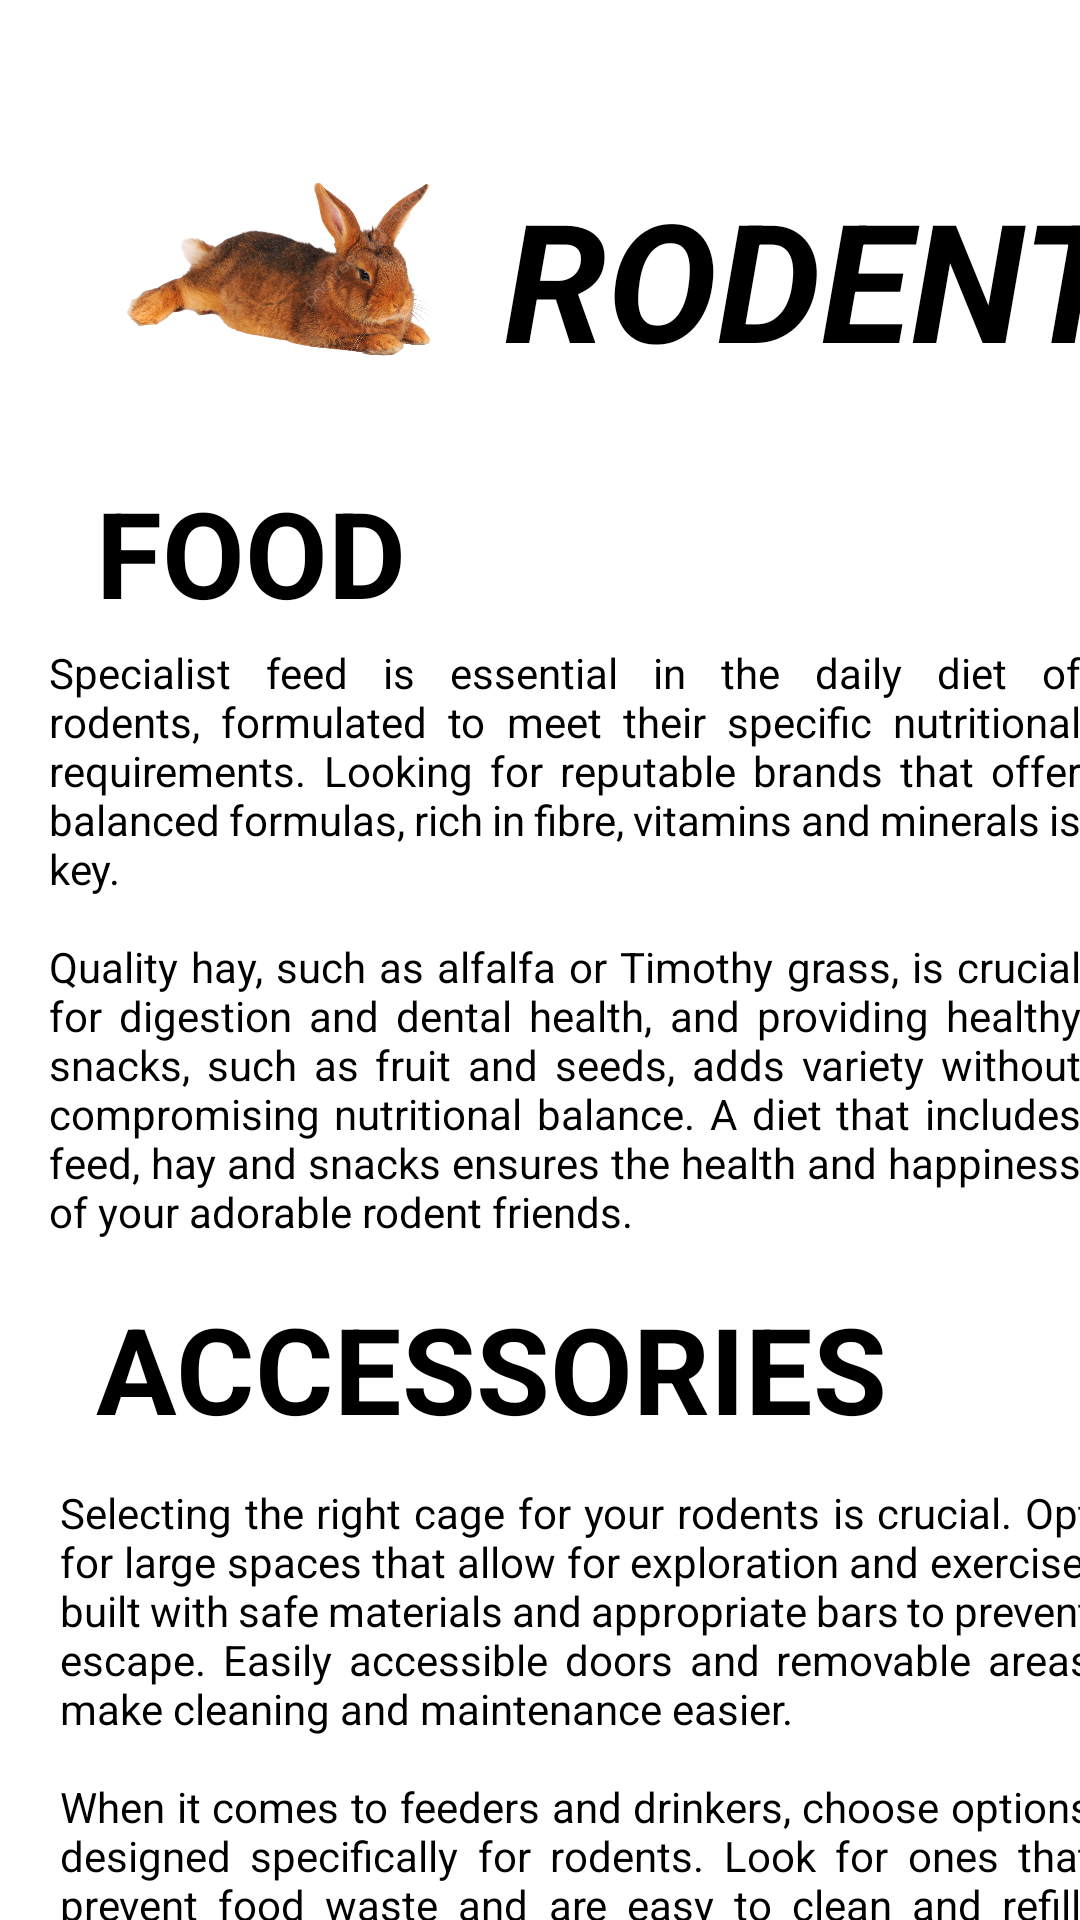

Point at icon controls on the screen. Image size 1080*1920, points as (x=x, y=y).
rabbit: (x=278, y=269)
